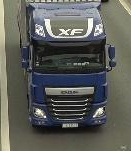truck: (22, 0, 114, 138)
